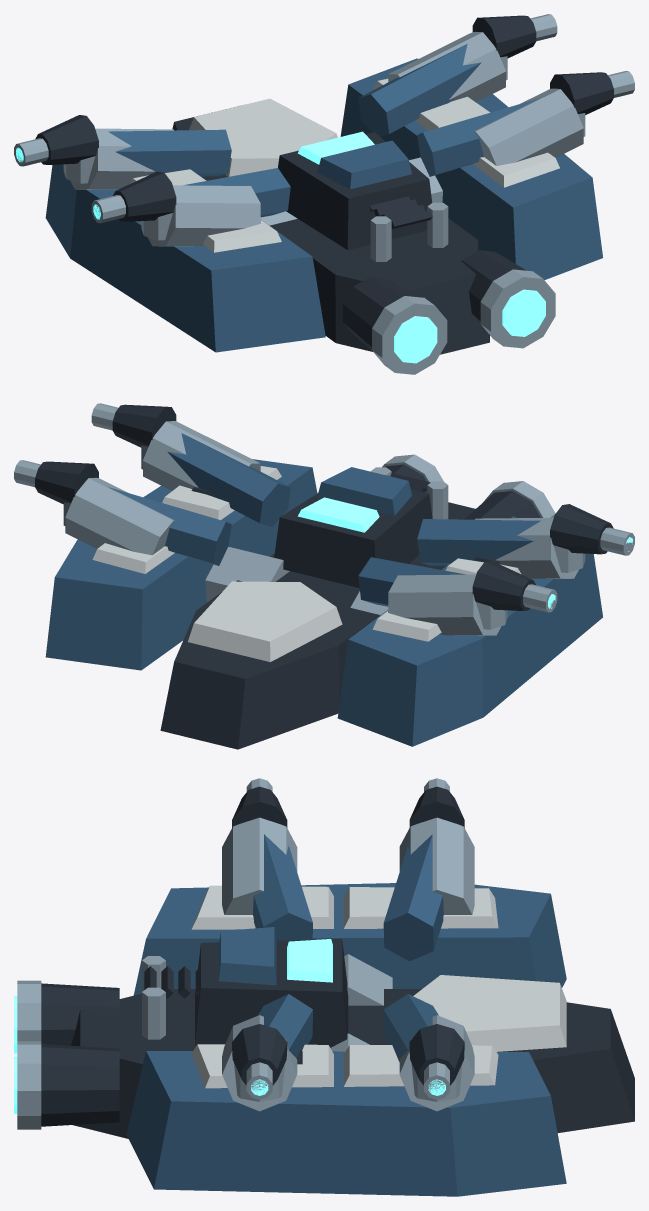
Rendered from c4_broadside.glb.
The picture shows the model from 3 angles, top to bottom: view 1: azimuth 30°, elevation 25°; view 2: azimuth 150°, elevation 25°; view 3: azimuth 270°, elevation 25°; orthographic projection. The views are drawn at different scales.
Parts seen in each view (by area): view 1: c4_broadside / Armor, c4_broadside / Chassis, c4_broadside / Titanium, c4_broadside / Identification, c4_broadside / Energy; view 2: c4_broadside / Armor, c4_broadside / Chassis, c4_broadside / Titanium, c4_broadside / Identification, c4_broadside / Energy; view 3: c4_broadside / Armor, c4_broadside / Chassis, c4_broadside / Titanium, c4_broadside / Identification, c4_broadside / Energy.
Boxes of the visible parts, x1,y1,x2,y2 form: c4_broadside / Armor: [45, 44, 602, 352]; c4_broadside / Chassis: [35, 15, 613, 354]; c4_broadside / Titanium: [14, 14, 634, 374]; c4_broadside / Identification: [130, 78, 559, 252]; c4_broadside / Energy: [16, 131, 545, 363]; c4_broadside / Armor: [45, 433, 602, 746]; c4_broadside / Chassis: [35, 404, 613, 749]; c4_broadside / Titanium: [14, 403, 634, 635]; c4_broadside / Identification: [92, 466, 521, 662]; c4_broadside / Energy: [297, 497, 632, 608]; c4_broadside / Armor: [126, 834, 566, 1196]; c4_broadside / Chassis: [41, 786, 634, 1138]; c4_broadside / Titanium: [17, 778, 474, 1129]; c4_broadside / Identification: [191, 885, 566, 1088]; c4_broadside / Energy: [14, 939, 445, 1113].
Size of the model in its own units: 2.06 by 0.615 by 1.82.
